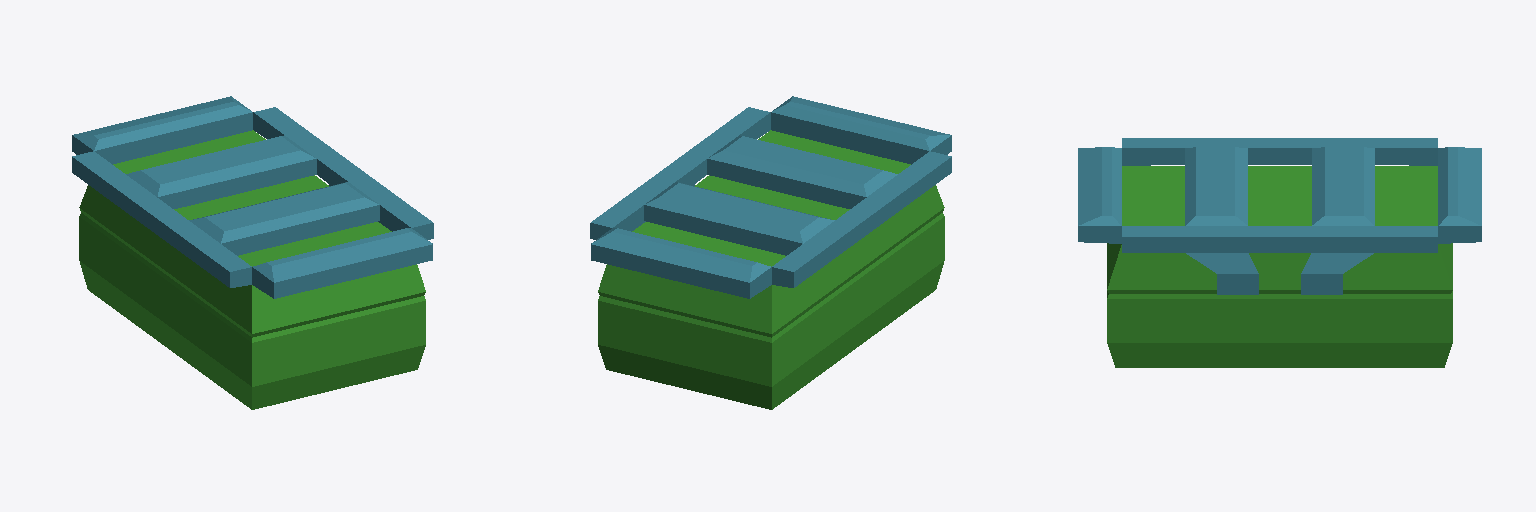
The model's file is Chest01.obj.
The picture shows the model from 3 angles: view 1: azimuth 30°, elevation 25°; view 2: azimuth 150°, elevation 25°; view 3: azimuth 270°, elevation 25°; orthographic projection.
Visible parts, largest first — view 1: Cube; view 2: Cube; view 3: Cube.
Boxes of the visible parts, x1=… form: Cube: x1=72, y1=96, x2=433, y2=409; Cube: x1=590, y1=96, x2=951, y2=409; Cube: x1=1078, y1=138, x2=1481, y2=367.
Size of the model in its own units: 2.87 by 1.91 by 4.78.